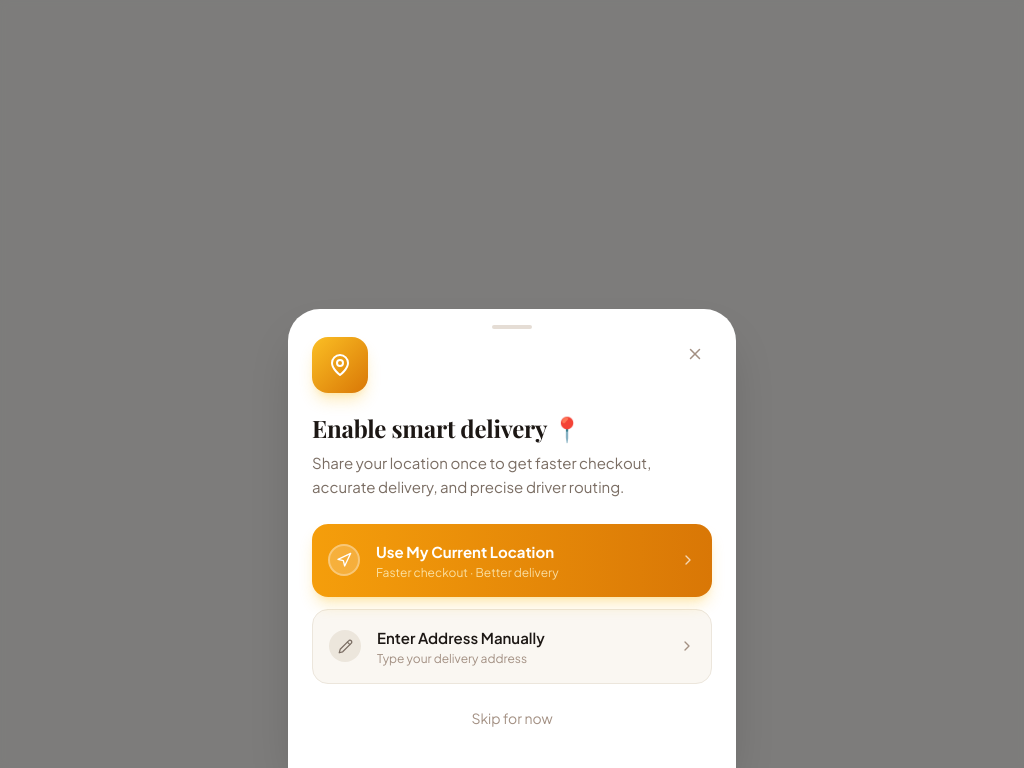
Test: [LocationPopup] › should show GPS not supported error when geolocation is unavailable
Click the text "Use My Current Location": (467, 551) [376,540,559,563]
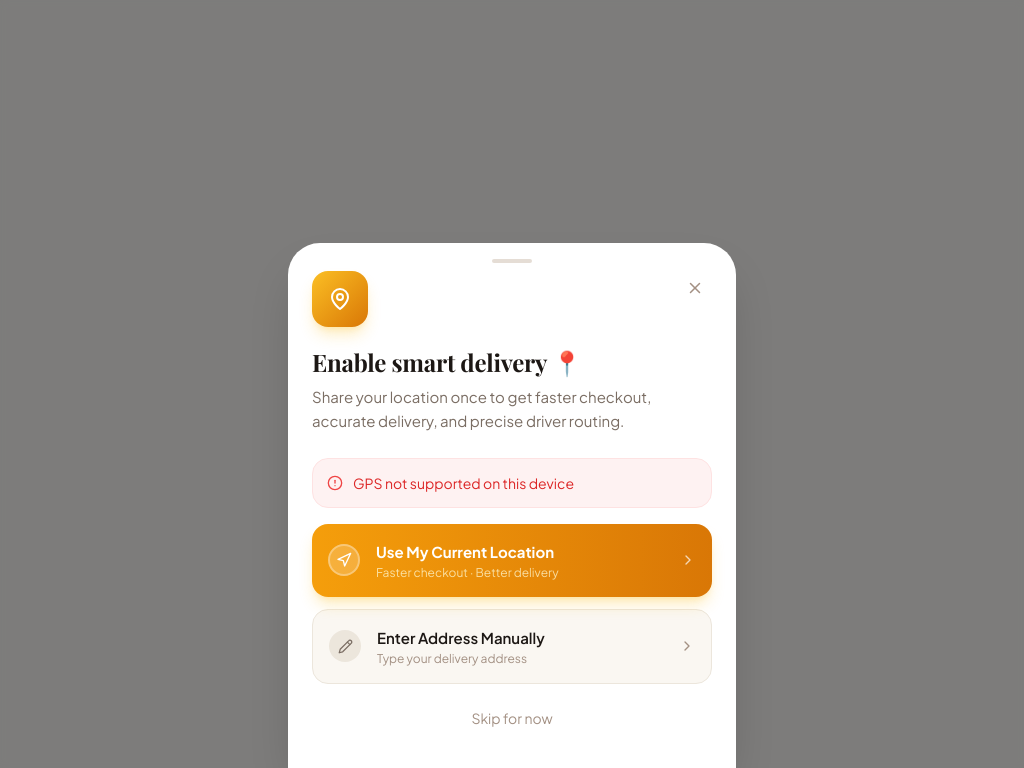
Result: the text "GPS not supported on this device" is shown at [353,472,574,492]
